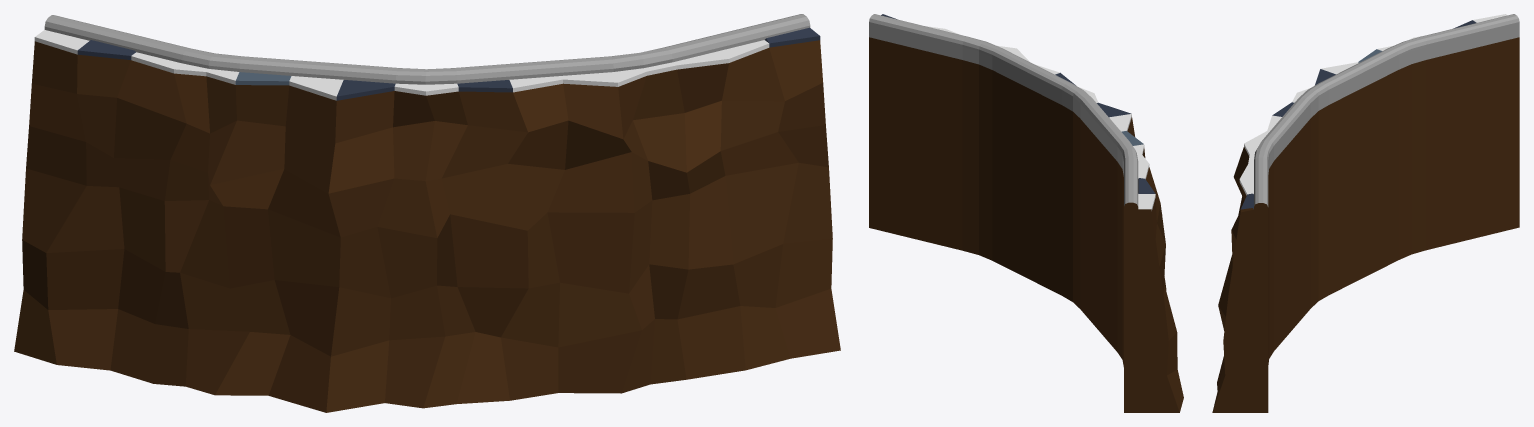
The model's file is road_stop_curveR.fbx.
3 renders of one model, left to right at view 1: azimuth 30°, elevation 25°; view 2: azimuth 150°, elevation 25°; view 3: azimuth 270°, elevation 25°, orthographic. The views are drawn at different scales.
Parts seen in each view (by area): view 1: road_line_stop_curveR; view 2: road_line_stop_curveR; view 3: road_line_stop_curveR.
Boxes of the visible parts, bbox=[...] form: road_line_stop_curveR: bbox=[14, 14, 840, 412]; road_line_stop_curveR: bbox=[869, 14, 1183, 412]; road_line_stop_curveR: bbox=[1212, 14, 1519, 412].
Bounding box in the file's own units: 677 × 322 × 427.
